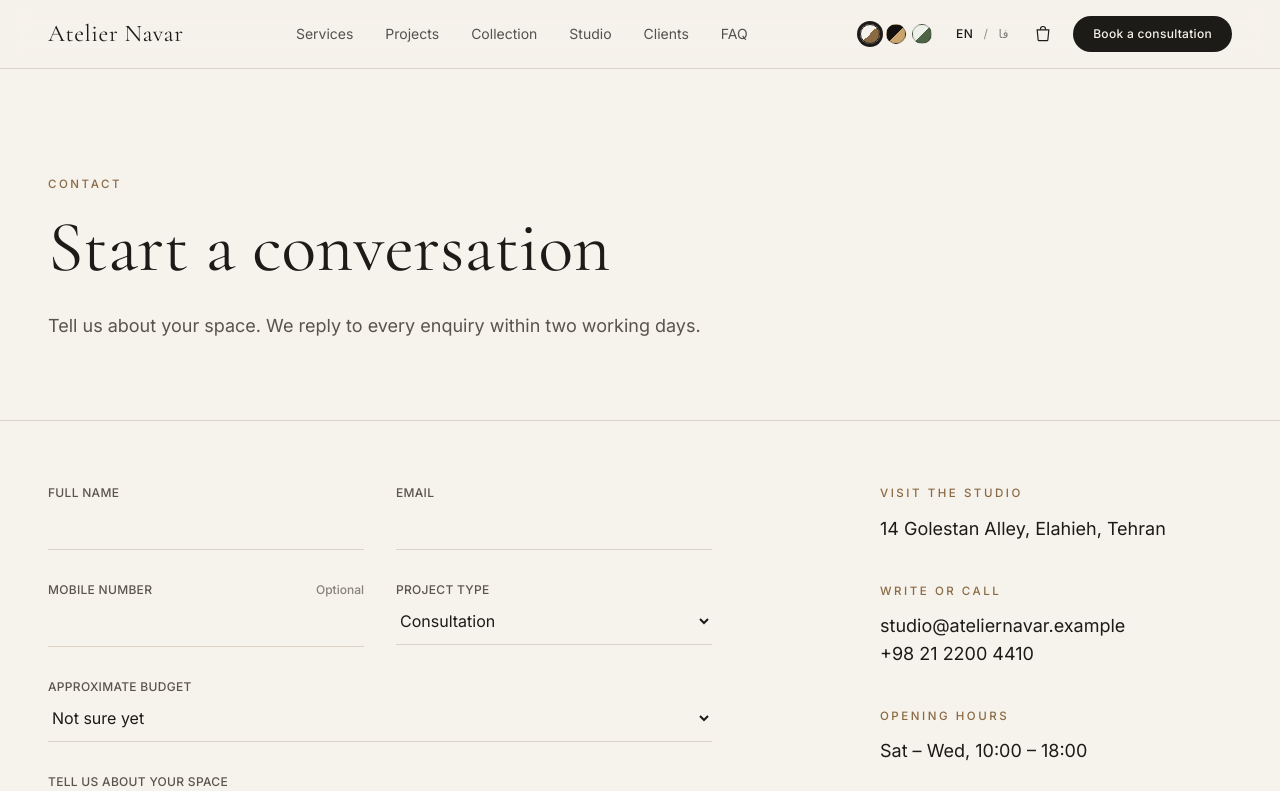
Test case: contact form (no API configured) › pre-fills from a service link and clearly labels the result as a demo
This screenshot has width=1280, height=791.
Check: the dropdown labelled "Project type" shows "Consultation", box [396, 598, 712, 645]
Type "Sara Ahmadi" into the field labelled "Full name" at (206, 526), box [48, 501, 364, 550]
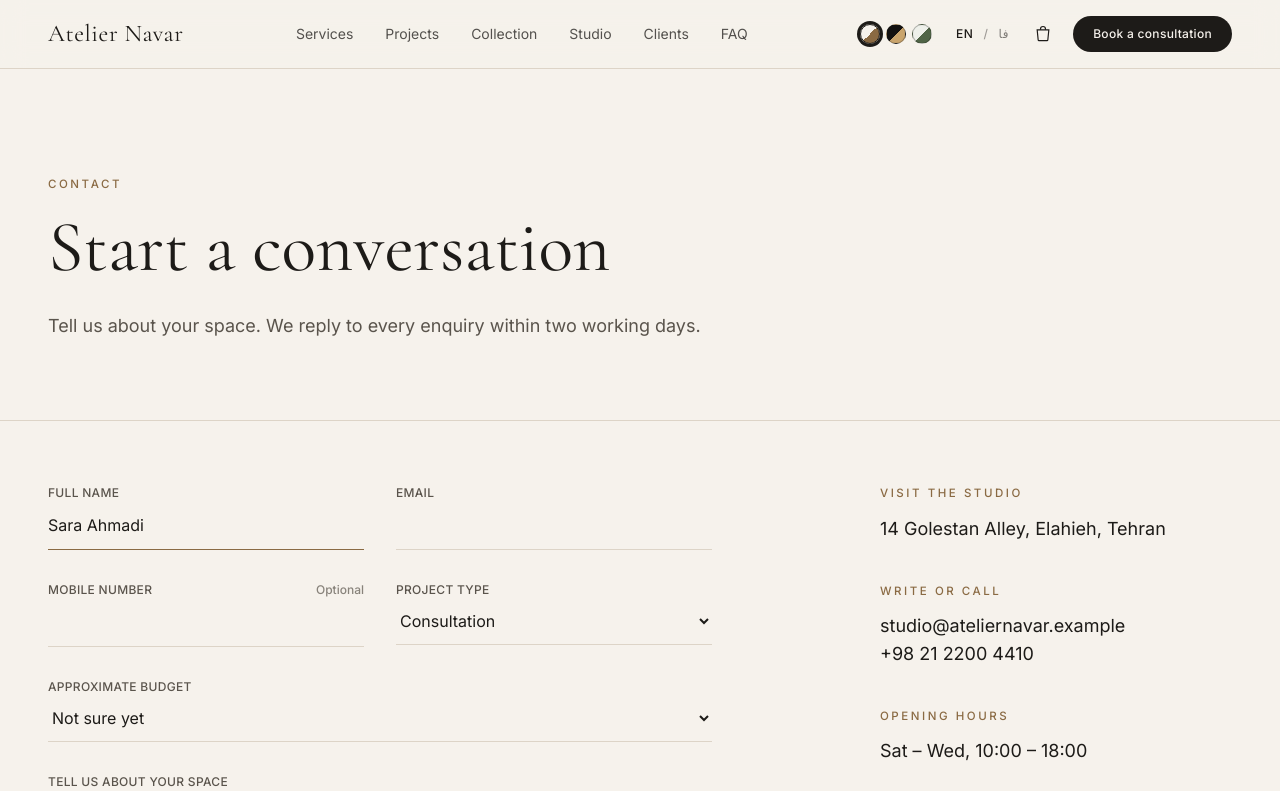
Type "sara@example.com" into the field labelled "Email" at (554, 526), box [396, 501, 712, 550]
(page scrolled)
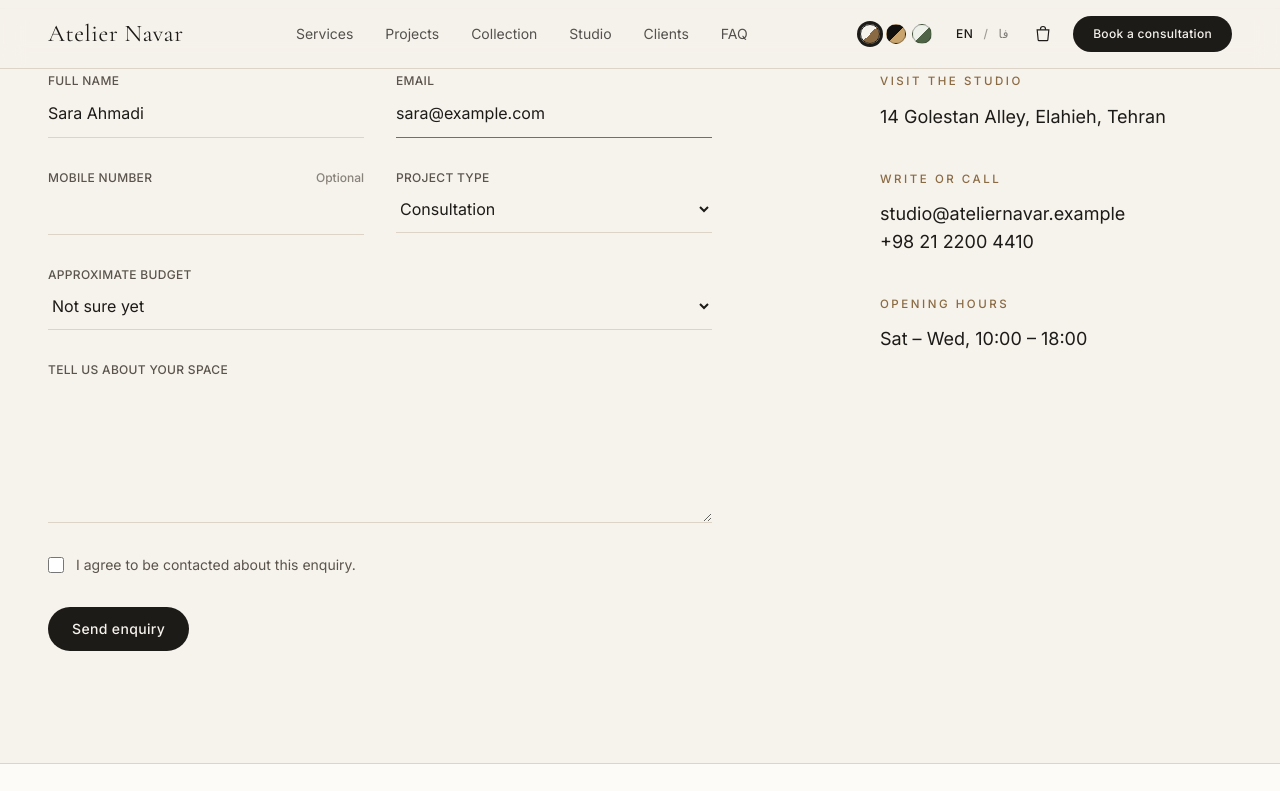
Type "A two-bedroom apartment in need of a calmer living room." into the text box labelled "Tell us about your space" at (380, 451), box [48, 378, 712, 523]
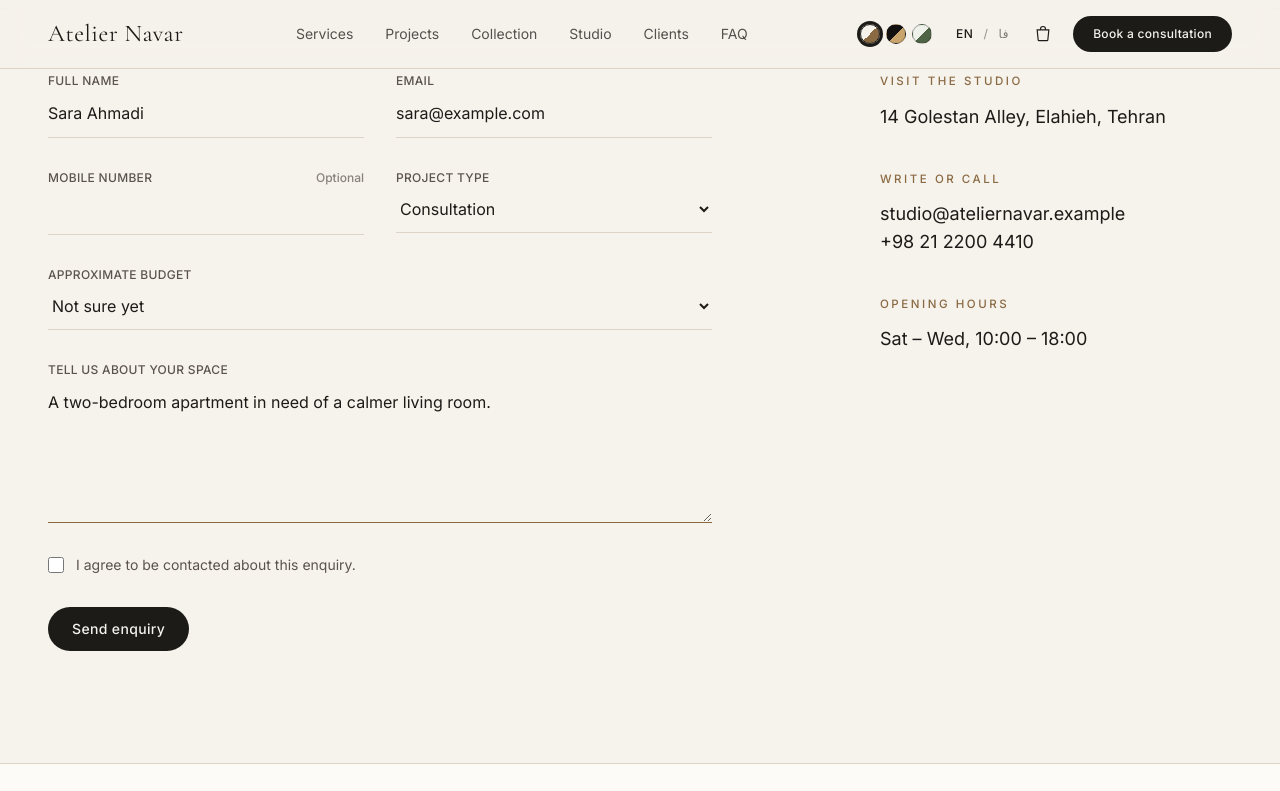
Click the checkbox labelled "I agree to be contacted about this enquiry." at (56, 565), box [48, 557, 64, 573]
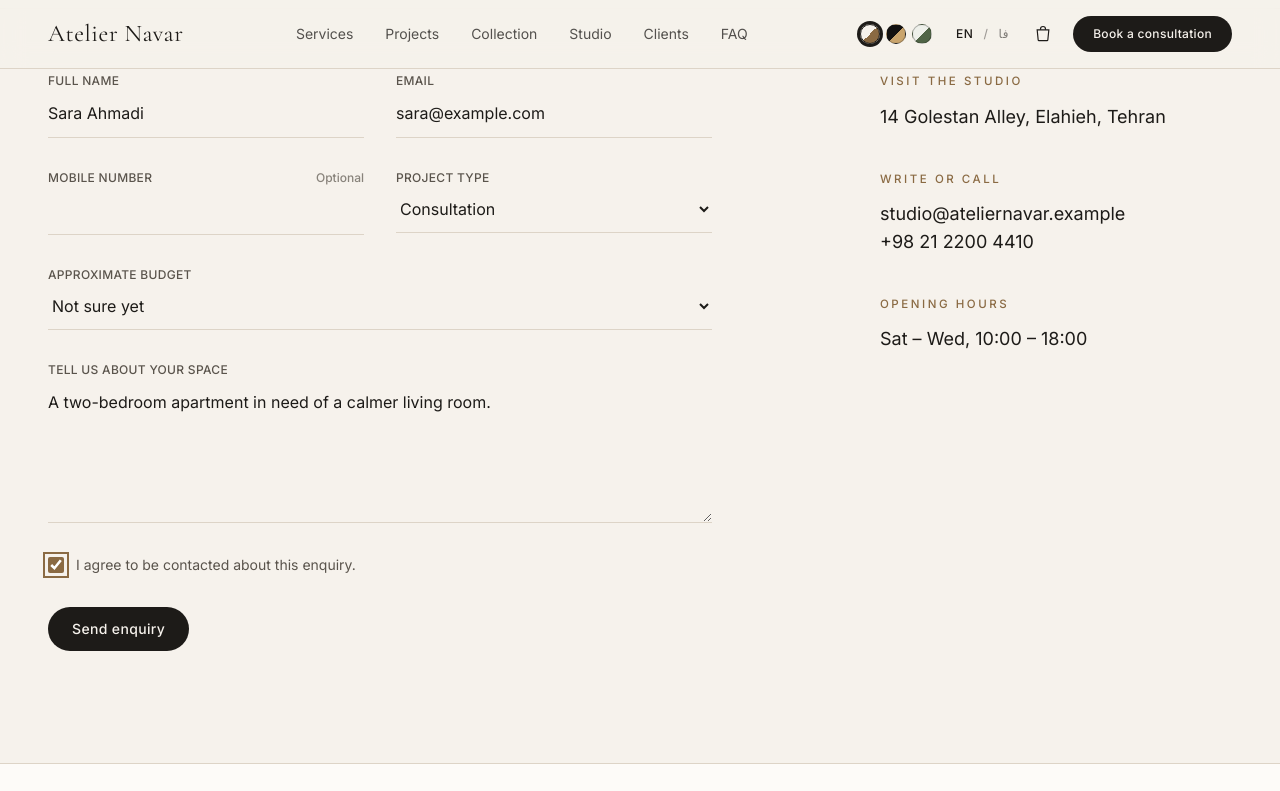
Click the button "Send enquiry" at (119, 629), box [48, 607, 189, 651]
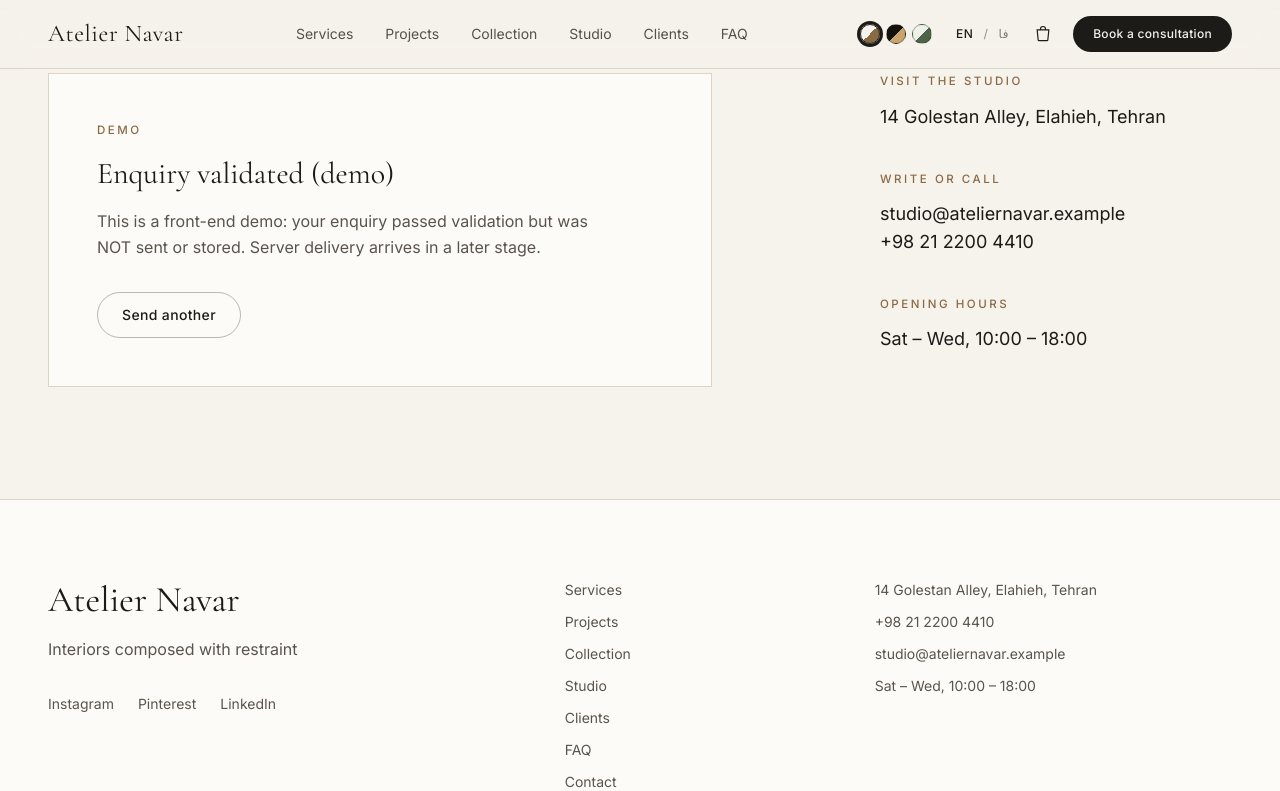
Check: the text "was NOT sent or stored" is shown, box [97, 210, 588, 256]
